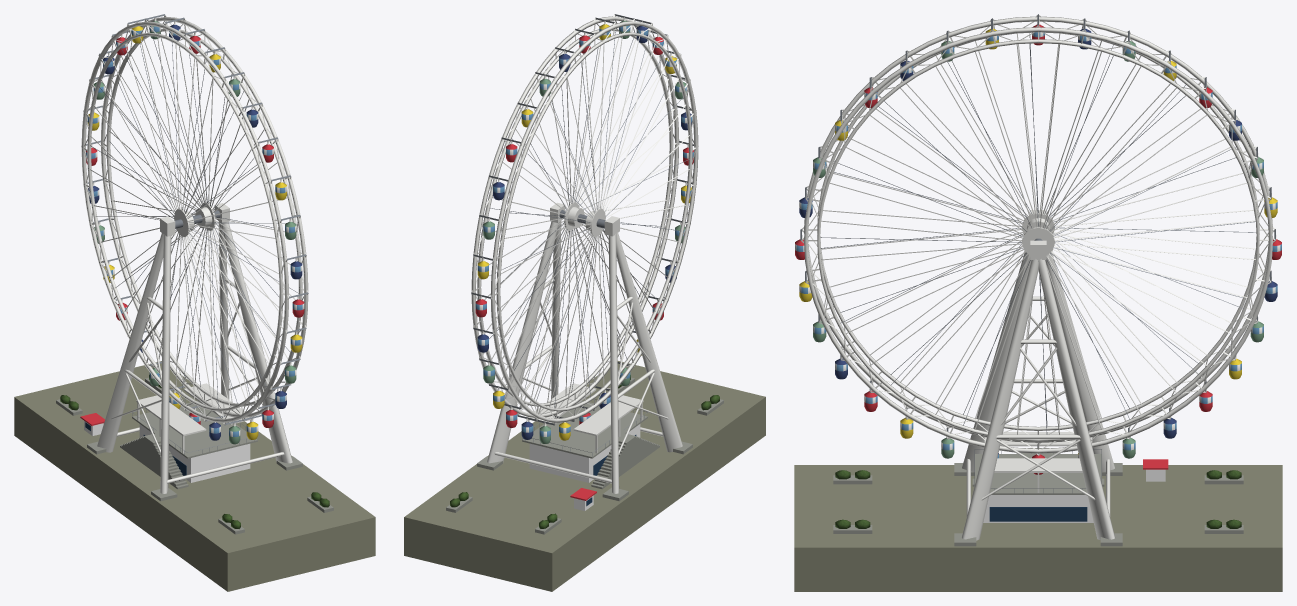
File: top-prebuilt_close.fbx
The picture shows the model from 3 angles, left to right: view 1: azimuth 30°, elevation 25°; view 2: azimuth 150°, elevation 25°; view 3: azimuth 270°, elevation 25°; orthographic projection. The views are drawn at different scales.
Visible parts, largest first — view 1: a1094/0/top-prebuilt_close; view 2: a1094/0/top-prebuilt_close; view 3: a1094/0/top-prebuilt_close.
Boxes of the visible parts, x1,y1,x2,y2 form: a1094/0/top-prebuilt_close: (14,14,375,591); a1094/0/top-prebuilt_close: (404,14,765,591); a1094/0/top-prebuilt_close: (794,14,1282,591).
Bounding box in the file's own units: 40 × 120 × 100.
